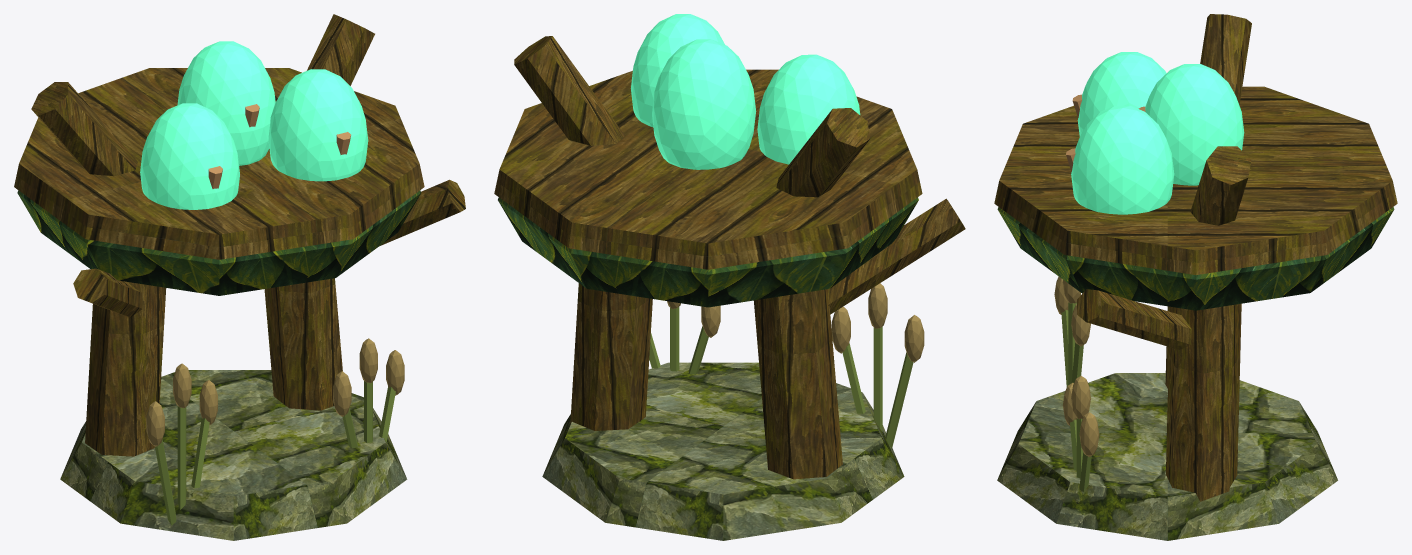
File: 04-dragonfly-nest.glb
3 views of the same model, side by side, from view 1: azimuth 30°, elevation 25°; view 2: azimuth 150°, elevation 25°; view 3: azimuth 270°, elevation 25° (orthographic). The views are drawn at different scales.
Visible parts, largest first — view 1: 04-dragonfly-nest; view 2: 04-dragonfly-nest; view 3: 04-dragonfly-nest.
Part boxes in pixels (x1=…): 04-dragonfly-nest: x1=14, y1=14, x2=465, y2=540; 04-dragonfly-nest: x1=494, y1=14, x2=965, y2=540; 04-dragonfly-nest: x1=994, y1=14, x2=1397, y2=540.
Size of the model in its own units: 2.65 by 2.68 by 2.42.
Materials: 7 (3 with a texture image).
